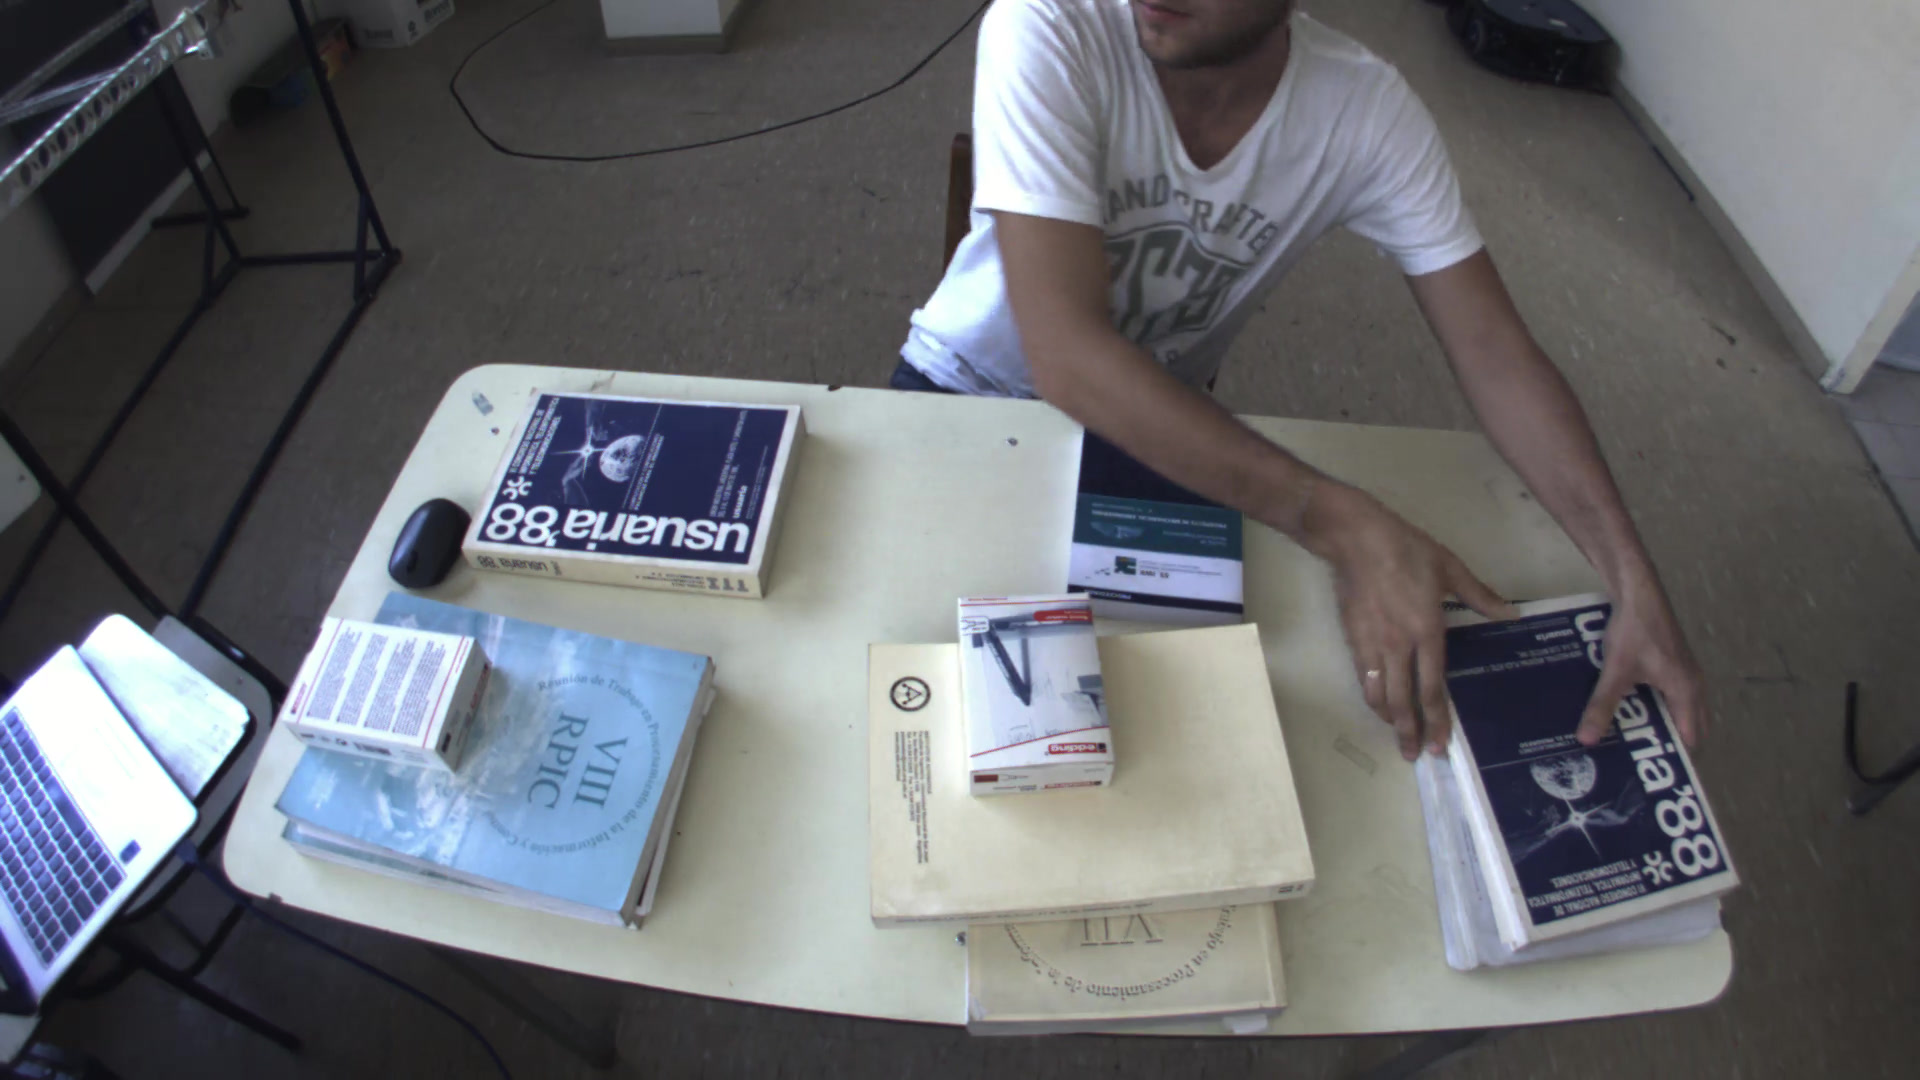hand: (1315, 506, 1534, 765), (1571, 593, 1720, 756)
